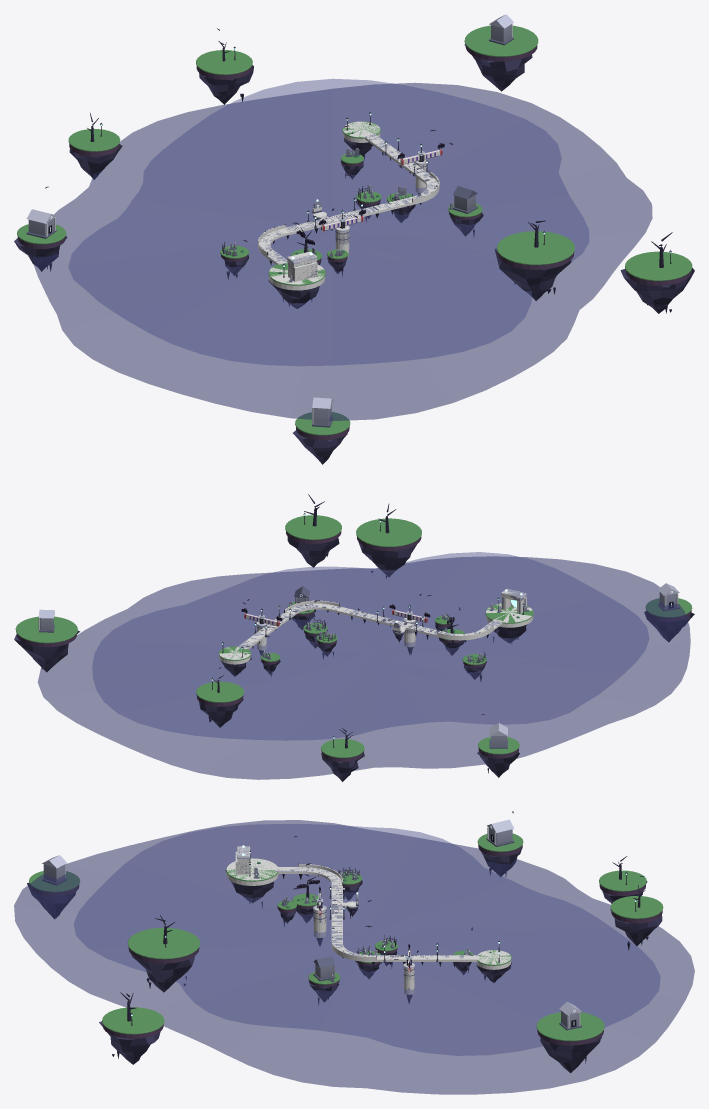
3 renders of one model, top to bottom at view 1: azimuth 30°, elevation 25°; view 2: azimuth 150°, elevation 25°; view 3: azimuth 270°, elevation 25°, orthographic. The views are drawn at different scales.
Visible parts, largest first — view 1: V_mist_deep, V_mist_veil, V_moss, V_rock, C_0, V_stone, V_dirt, V_stone_dark, V_stone_light, C_1; view 2: V_mist_deep, V_mist_veil, V_moss, V_rock, C_0, V_dirt, V_stone, V_stone_dark, V_stone_light, V_iron, V_beam_dark; view 3: V_mist_deep, V_mist_veil, V_moss, V_rock, C_0, V_stone, V_dirt, V_stone_dark, V_stone_light, V_beam_dark, V_iron.
Boxes of the visible parts, box(x1,y1,x2,y2) form: V_mist_deep: box(33, 82, 652, 420); V_mist_veil: box(68, 78, 589, 366); V_moss: box(17, 25, 692, 435); V_rock: box(14, 44, 694, 464); C_0: box(258, 121, 439, 290); V_stone: box(28, 24, 511, 424); V_dirt: box(17, 45, 691, 440); V_stone_dark: box(26, 37, 513, 427); V_stone_light: box(26, 14, 513, 408); C_1: box(287, 251, 317, 281); V_mist_deep: box(37, 556, 690, 779); V_mist_veil: box(92, 552, 649, 740); V_moss: box(15, 515, 692, 757); V_rock: box(14, 537, 694, 781); C_0: box(219, 600, 533, 664); V_dirt: box(16, 531, 691, 762); V_stone: box(40, 589, 677, 746); V_stone_dark: box(39, 586, 679, 748); V_stone_light: box(39, 583, 679, 735); V_iron: box(211, 513, 524, 747); V_beam_dark: box(213, 494, 458, 748); V_mist_deep: box(14, 820, 694, 1094); V_mist_veil: box(74, 824, 660, 1055); V_moss: box(29, 833, 663, 1041); V_rock: box(27, 850, 662, 1073); C_0: box(226, 858, 511, 994); V_stone: box(43, 828, 580, 1027); V_dirt: box(29, 845, 662, 1045); V_stone_dark: box(42, 838, 581, 1030); V_stone_light: box(42, 819, 581, 1014); V_beam_dark: box(120, 856, 645, 1021); V_iron: box(131, 851, 636, 1025).
Size of the model in its own units: 149 by 35.57 by 157.
